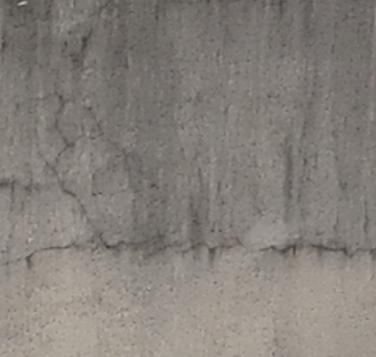fissura: (0, 32, 376, 273)
